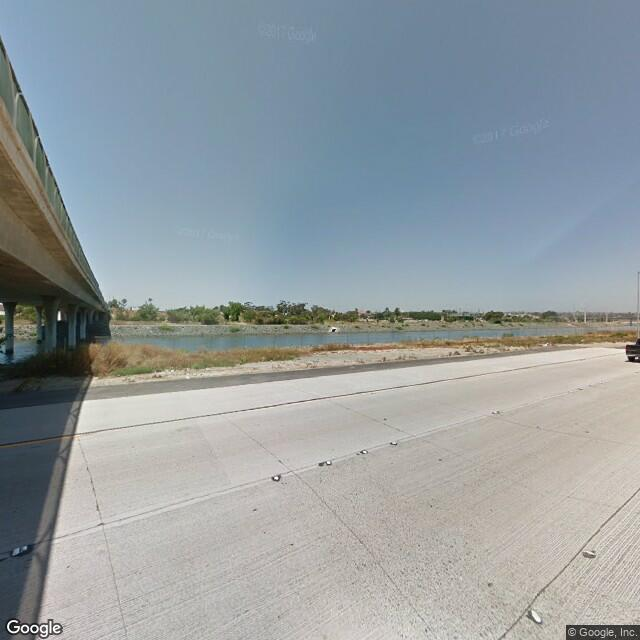litter: (11, 543, 30, 557), (529, 609, 544, 626), (183, 373, 196, 381), (586, 548, 594, 559), (541, 341, 554, 347), (165, 367, 176, 373)
